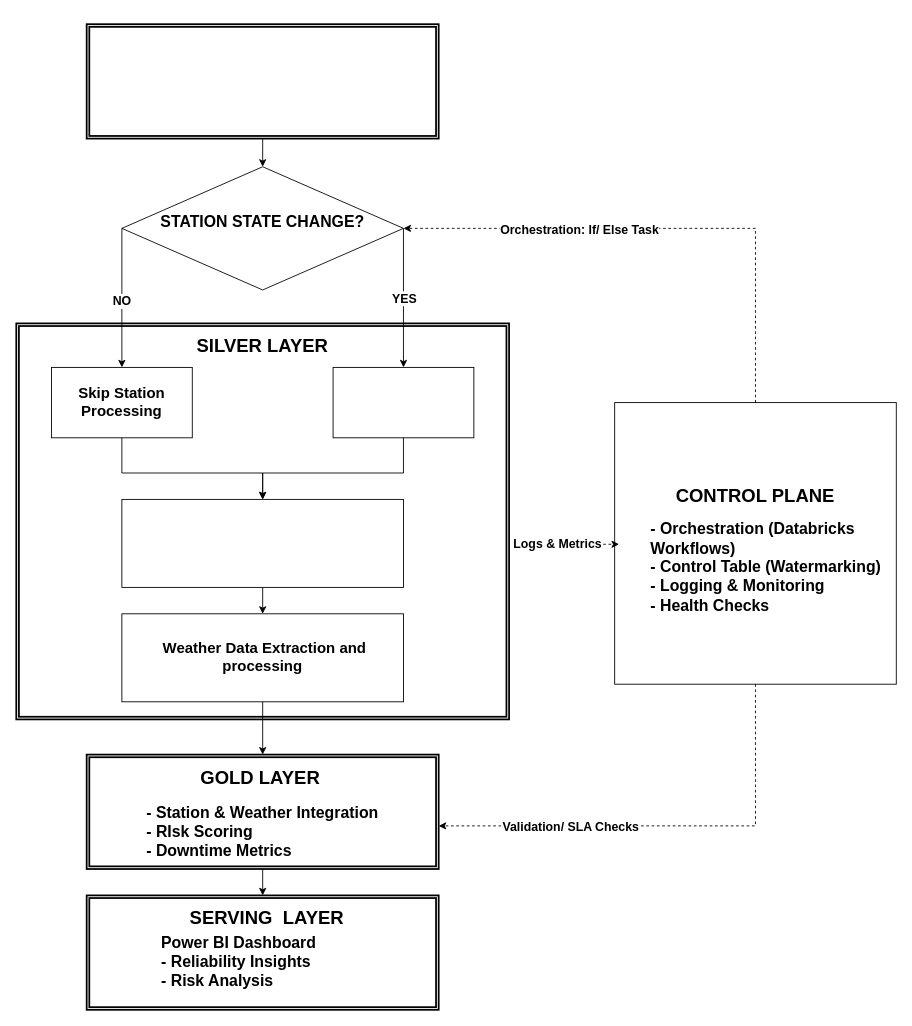
Image size: 912x1026. Some labels were removed from this diagram. Each missing label, with the box of its shape:
BRONZE LAYER Raw Station Data (API) Incremental Ingestion: (85, 23, 439, 139)
Geospatial Mapping (Determine Weather Zone from station coordinates): (121, 499, 403, 587)
Process Ingested Station Data: (332, 367, 474, 438)
